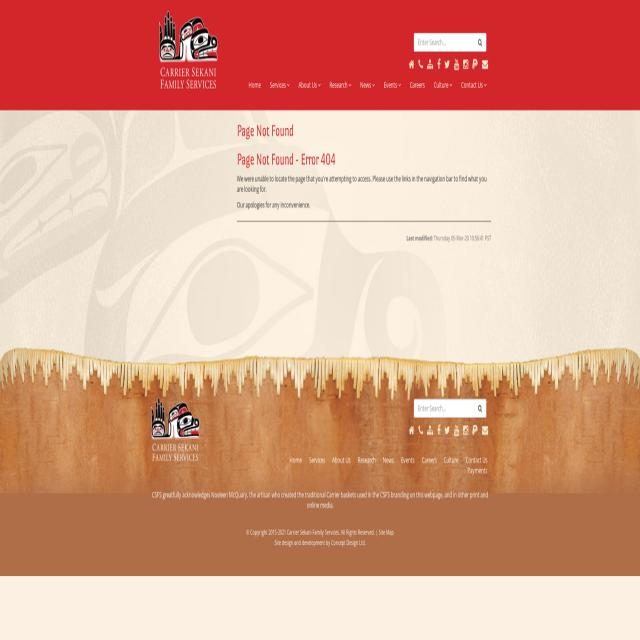button: (152, 6, 210, 84), (149, 394, 201, 464), (294, 72, 325, 99), (325, 72, 355, 99), (456, 72, 486, 99), (266, 72, 294, 99), (429, 72, 457, 99), (379, 72, 405, 99), (405, 72, 429, 99), (356, 72, 379, 99), (244, 72, 266, 99), (474, 400, 486, 418), (474, 34, 486, 52), (480, 423, 490, 439), (425, 422, 434, 439), (452, 422, 460, 439), (408, 422, 416, 438), (443, 422, 451, 438), (471, 422, 479, 438), (417, 422, 424, 438), (435, 422, 442, 438), (462, 423, 469, 439), (418, 57, 424, 71), (427, 57, 433, 71), (444, 57, 450, 71), (482, 57, 488, 71), (472, 58, 478, 72), (409, 57, 414, 71), (454, 57, 459, 71), (463, 57, 468, 71), (437, 57, 440, 71)
field: (414, 399, 474, 417), (414, 33, 474, 51)
